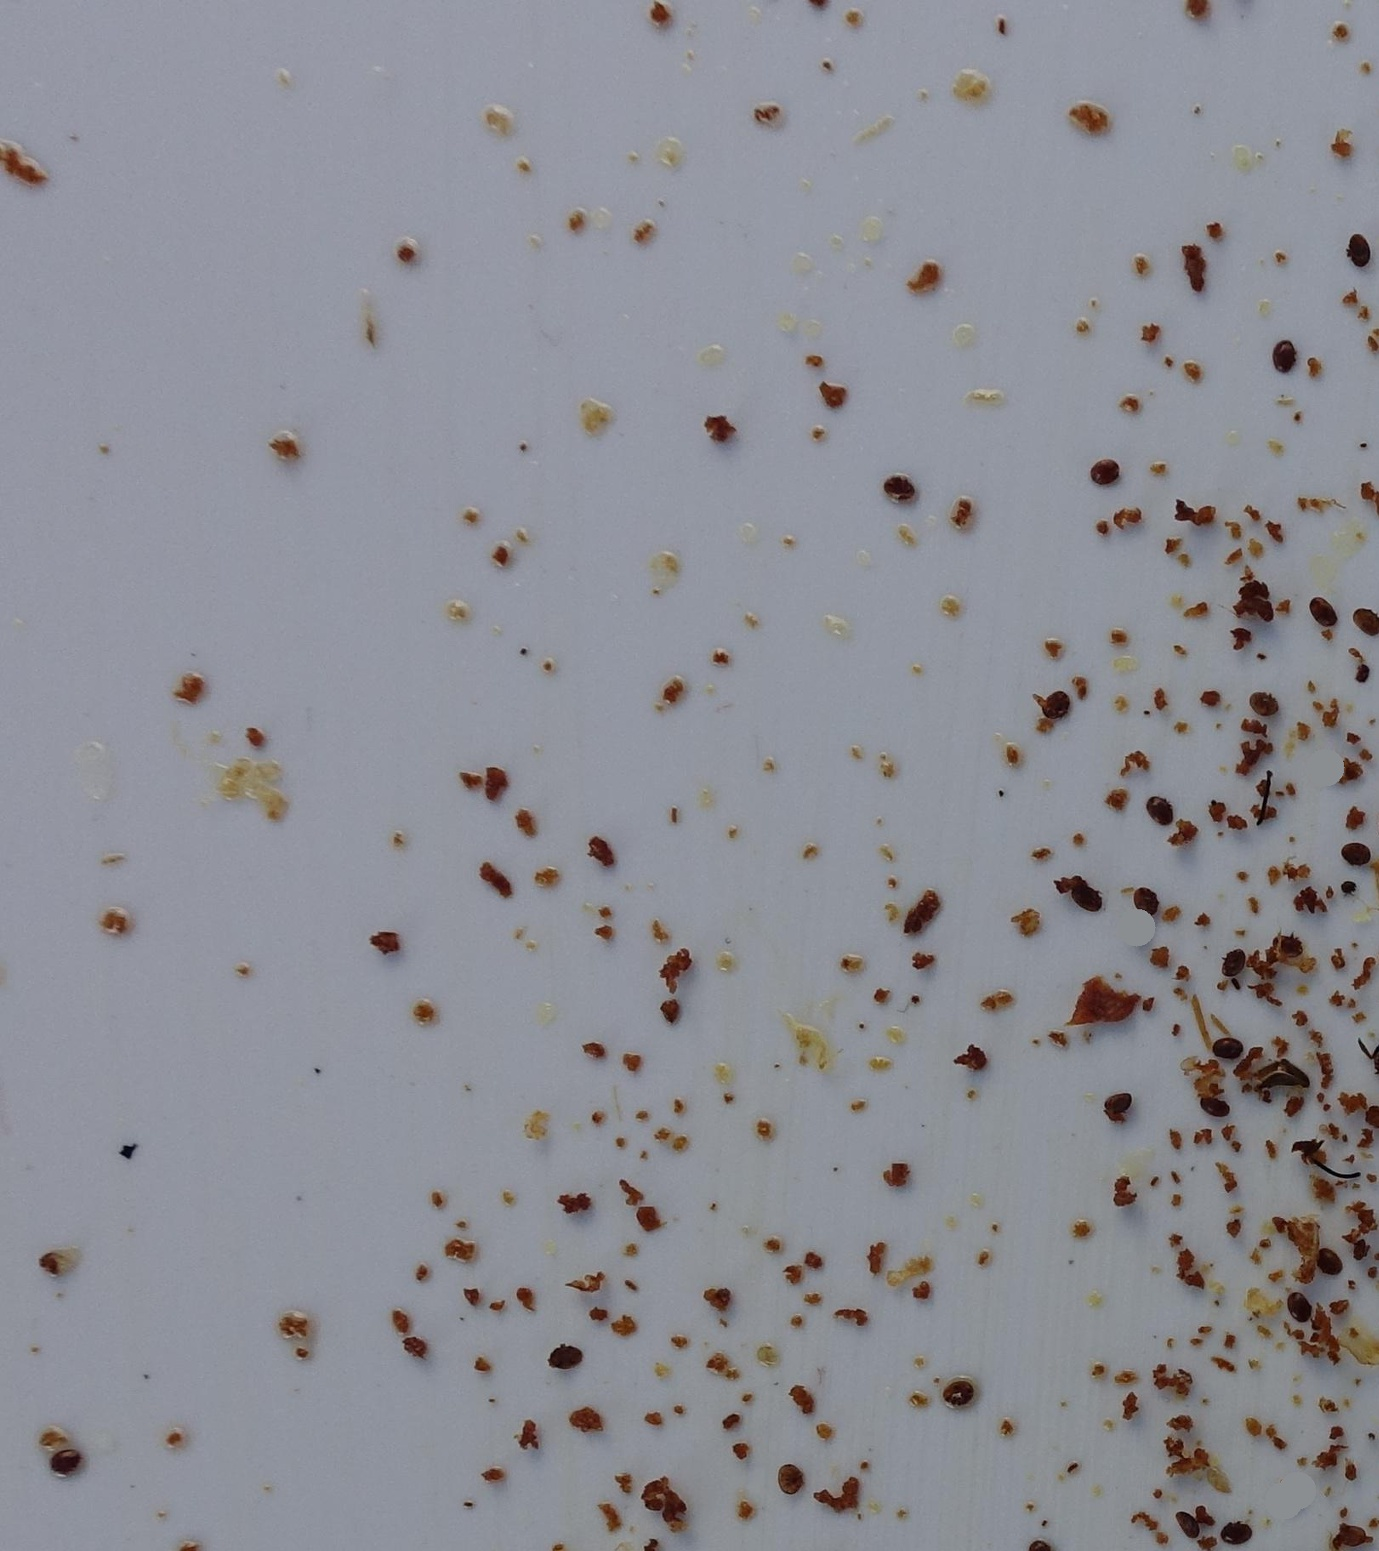Varroa: (942, 1375, 974, 1405), (1249, 687, 1277, 718), (1267, 341, 1295, 370), (1340, 1523, 1371, 1550), (1103, 1090, 1131, 1117), (1072, 881, 1097, 909), (1279, 933, 1303, 963), (1342, 837, 1368, 863), (1221, 947, 1245, 973), (776, 1468, 803, 1492), (1139, 885, 1166, 909), (552, 1342, 575, 1370), (1223, 1516, 1246, 1543), (1093, 458, 1117, 482), (1318, 1250, 1342, 1273), (1286, 1295, 1310, 1318), (1046, 694, 1068, 718), (1312, 599, 1335, 620), (1149, 801, 1163, 817), (1210, 1098, 1225, 1112), (1354, 241, 1367, 254), (1227, 1040, 1239, 1054), (892, 481, 905, 493), (60, 1451, 72, 1464), (1138, 907, 1151, 916), (1130, 899, 1146, 904)
